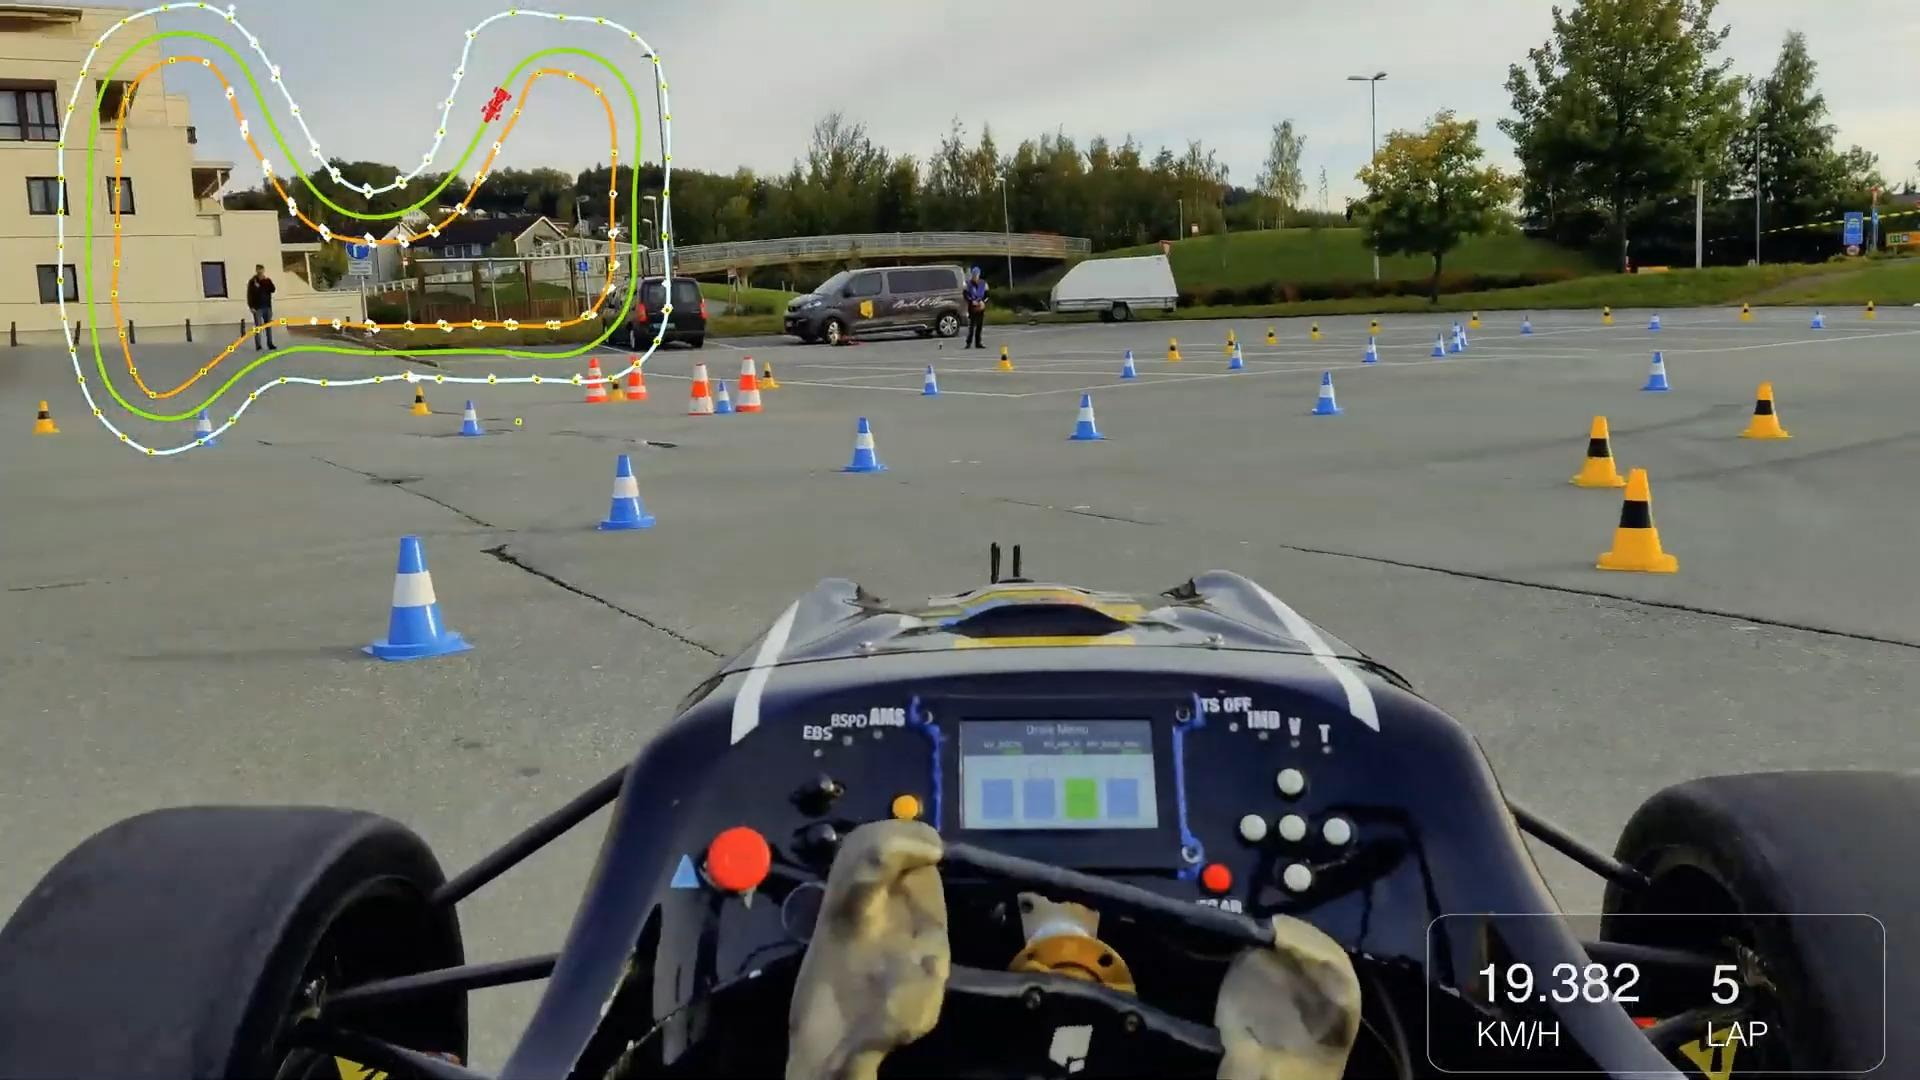blue_cone: (365, 530, 469, 662), (603, 454, 659, 537), (836, 417, 886, 475), (1068, 392, 1104, 442), (1312, 372, 1346, 415), (1640, 349, 1668, 390), (193, 405, 216, 448), (460, 404, 488, 435), (713, 378, 735, 415), (920, 365, 942, 396), (1120, 348, 1138, 381), (1229, 342, 1247, 372), (1362, 336, 1381, 364), (1431, 331, 1447, 357), (1647, 311, 1662, 331), (1519, 314, 1532, 335), (1449, 331, 1461, 353), (1811, 310, 1824, 330), (1449, 320, 1461, 342), (1458, 326, 1468, 347)
large_orange_cone: (684, 363, 713, 417), (736, 357, 762, 413), (584, 357, 608, 402), (625, 356, 649, 400)
yellow_cone: (1594, 467, 1677, 576), (1573, 413, 1625, 489), (1741, 381, 1787, 443), (32, 397, 59, 435), (410, 384, 431, 415), (1222, 327, 1240, 355), (760, 363, 777, 389), (998, 345, 1014, 373), (611, 375, 625, 402), (1167, 336, 1182, 363), (1738, 302, 1754, 323), (1863, 301, 1878, 320), (1266, 327, 1279, 347), (1367, 316, 1381, 335), (1601, 306, 1614, 324), (1309, 320, 1321, 339), (1470, 311, 1481, 328)
